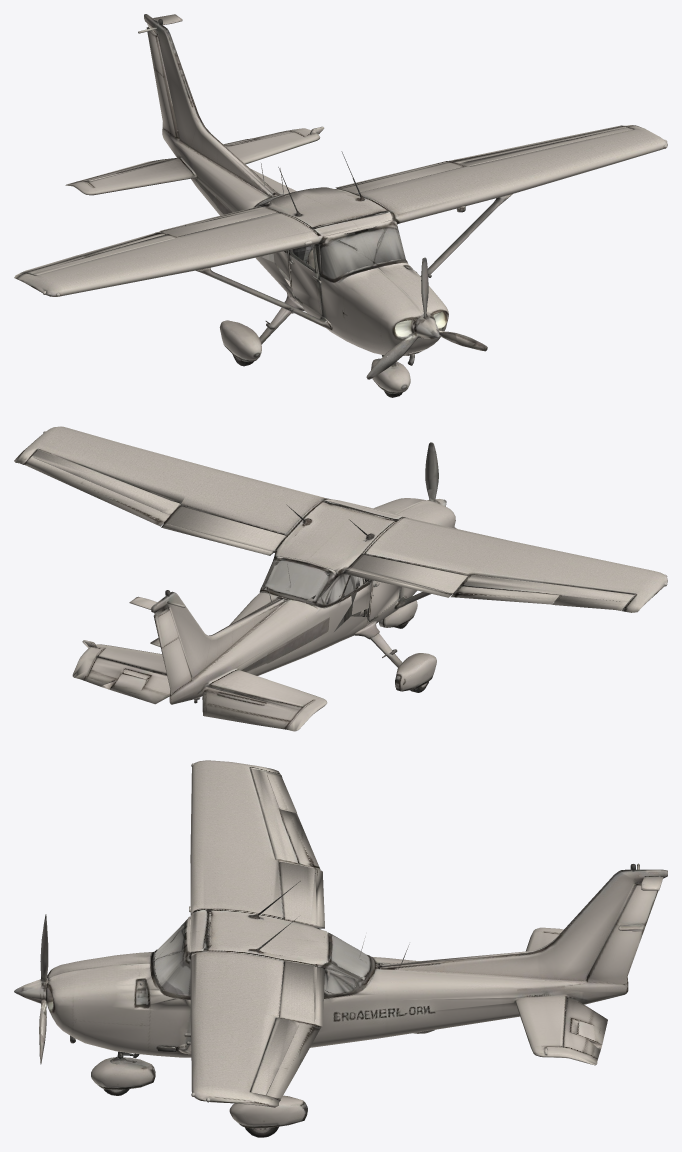
Rendered from cessna-172-tripo.glb.
The picture shows the model from 3 angles, top to bottom: view 1: azimuth 30°, elevation 25°; view 2: azimuth 150°, elevation 25°; view 3: azimuth 270°, elevation 25°; orthographic projection. The views are drawn at different scales.
Visible parts, largest first — view 1: tripo_node_fe82958a-7f87-476c-b9ff-754504fe2f43; view 2: tripo_node_fe82958a-7f87-476c-b9ff-754504fe2f43; view 3: tripo_node_fe82958a-7f87-476c-b9ff-754504fe2f43.
Part boxes in pixels (left/top/right/bottom): tripo_node_fe82958a-7f87-476c-b9ff-754504fe2f43: left=14, top=14, right=667, bottom=397; tripo_node_fe82958a-7f87-476c-b9ff-754504fe2f43: left=14, top=426, right=667, bottom=731; tripo_node_fe82958a-7f87-476c-b9ff-754504fe2f43: left=14, top=760, right=667, bottom=1137.
Size of the model in its own units: 0.9997 by 0.317 by 0.8159.
Materials: 1 (1 with a texture image).
